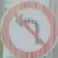Don't turn left: (6, 2, 51, 51)
